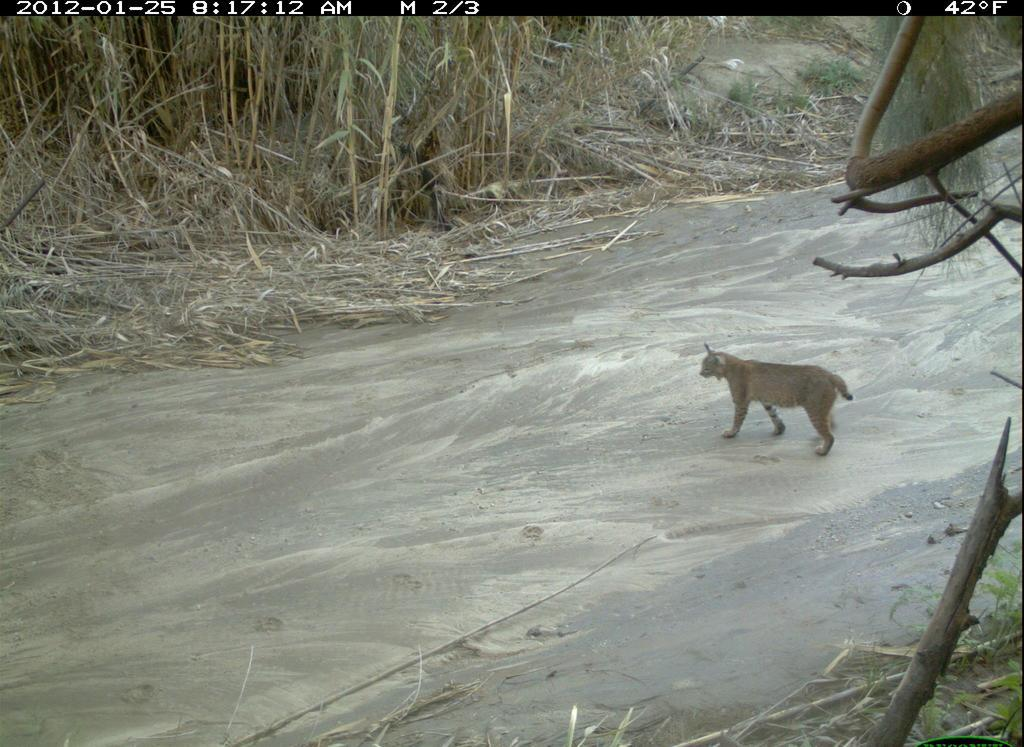bobcat: (696, 341, 877, 464)
